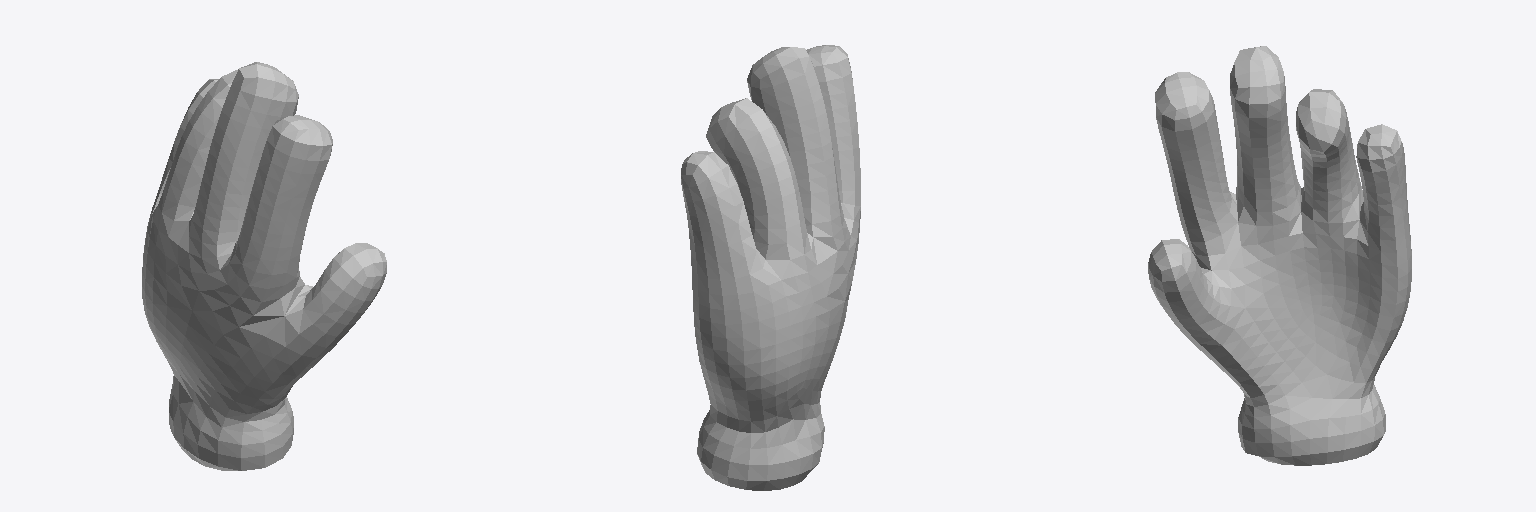
File: hand_01.obj
The picture shows the model from 3 angles: view 1: azimuth 30°, elevation 25°; view 2: azimuth 150°, elevation 25°; view 3: azimuth 270°, elevation 25°; orthographic projection.
Visible parts, largest first — view 1: ninja; view 2: ninja; view 3: ninja.
Boxes of the visible parts, <box> form: ninja: <box>142,62,386,470</box>; ninja: <box>681,45,860,490</box>; ninja: <box>1148,46,1411,465</box>.
Bounding box in the file's own units: 3.44 × 8.83 × 5.21.